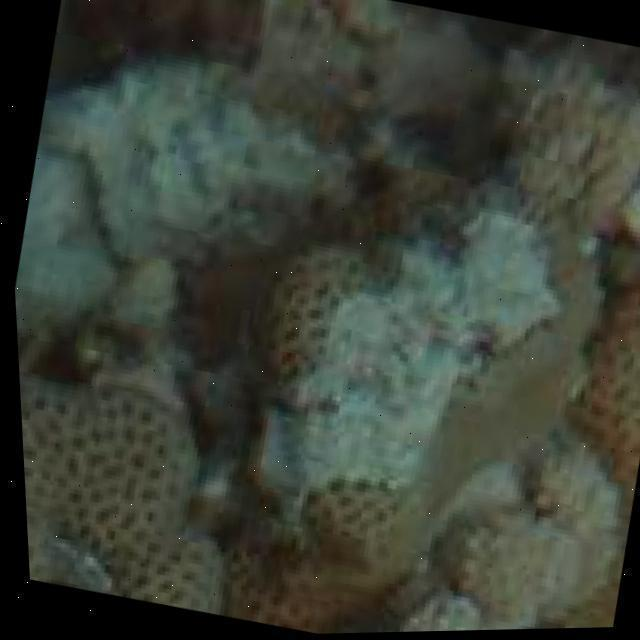Healthy Coral: (17, 347, 234, 624), (241, 477, 438, 633), (253, 230, 397, 384), (565, 263, 640, 508)
